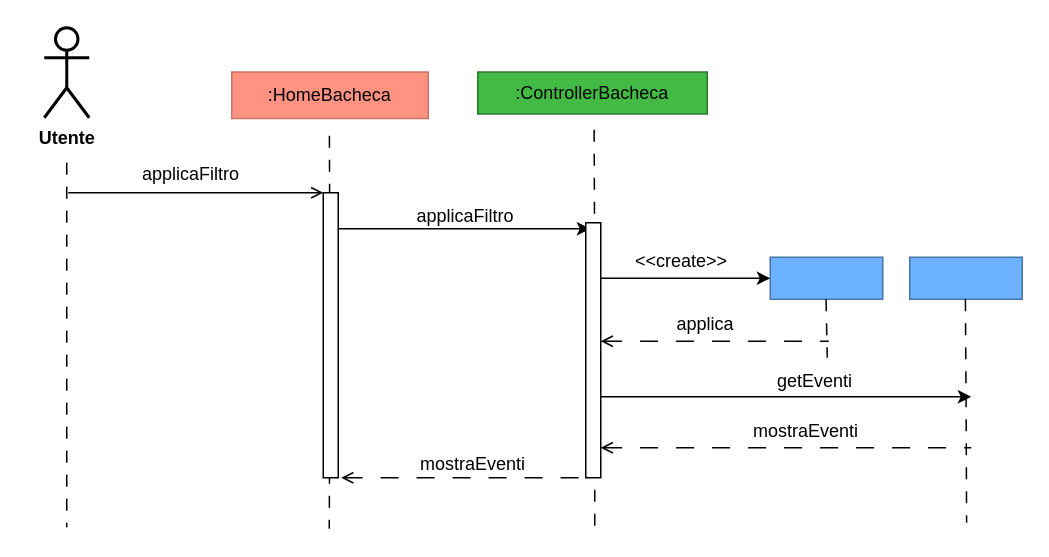
Some shapes in this 1049 by 557 pixel diagram are drawn without their labels. The centre of each missing label's shape, as x and y in pixels:
":Bacheca" goes at pixel 965 277.
":FiltroEventi" goes at pixel 826 277.
